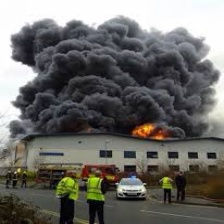smoke: (5, 13, 221, 147)
